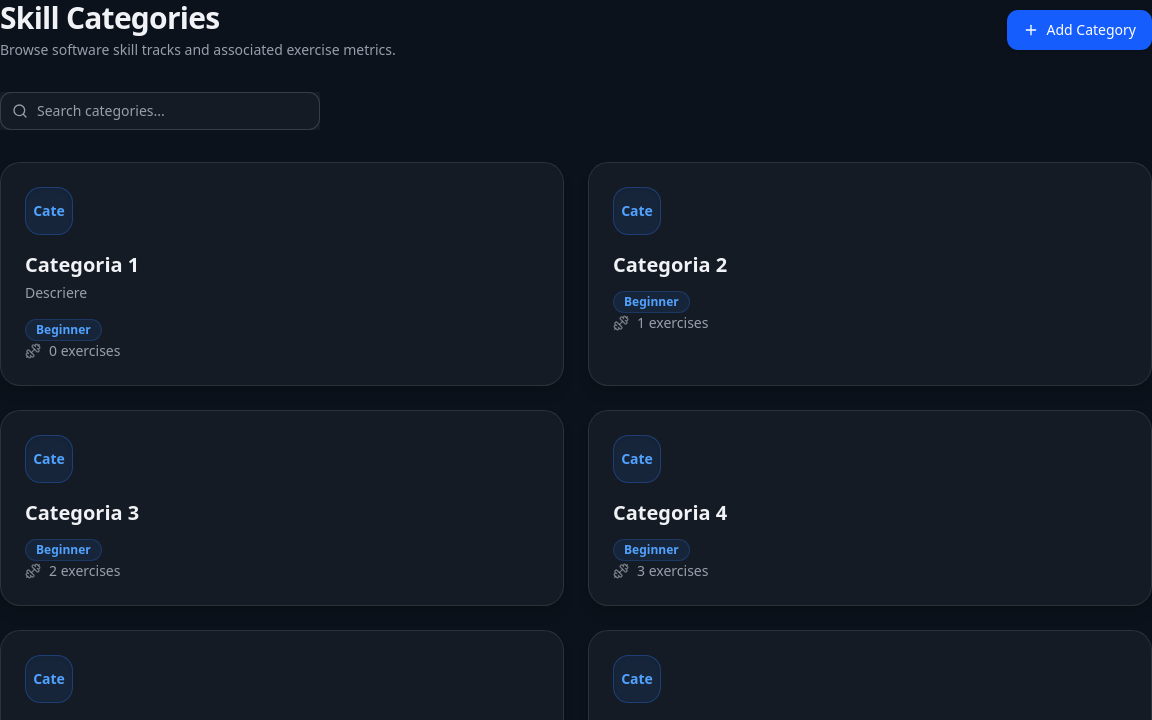
Test: CategoriesManager › creates a new category
Expected: the heading "Categoria 1" is shown, [25,251,139,278]
Step 1. Click the button "Add Category" → (1079, 30), box [1006,10,1151,50]
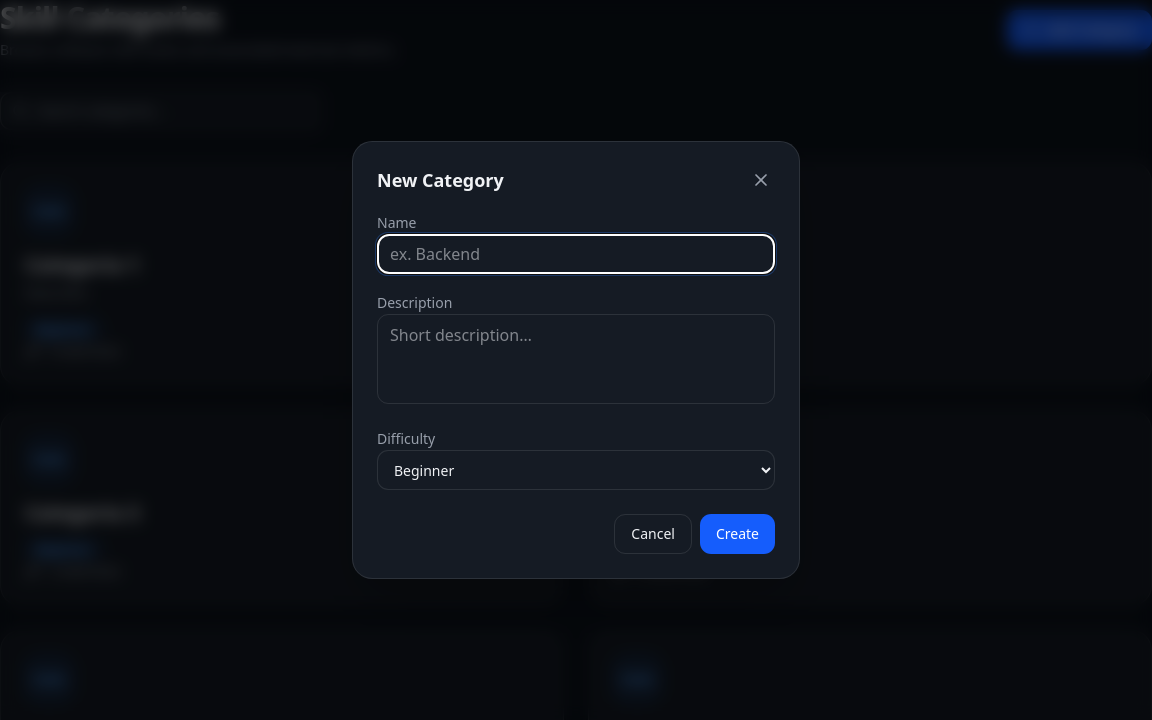
Result: the heading "New Category" is shown at [377,166,504,194]
Step 2. Type "DevOps" into the field with placeholder "ex. Backend" → (576, 254), box [377,234,775,274]
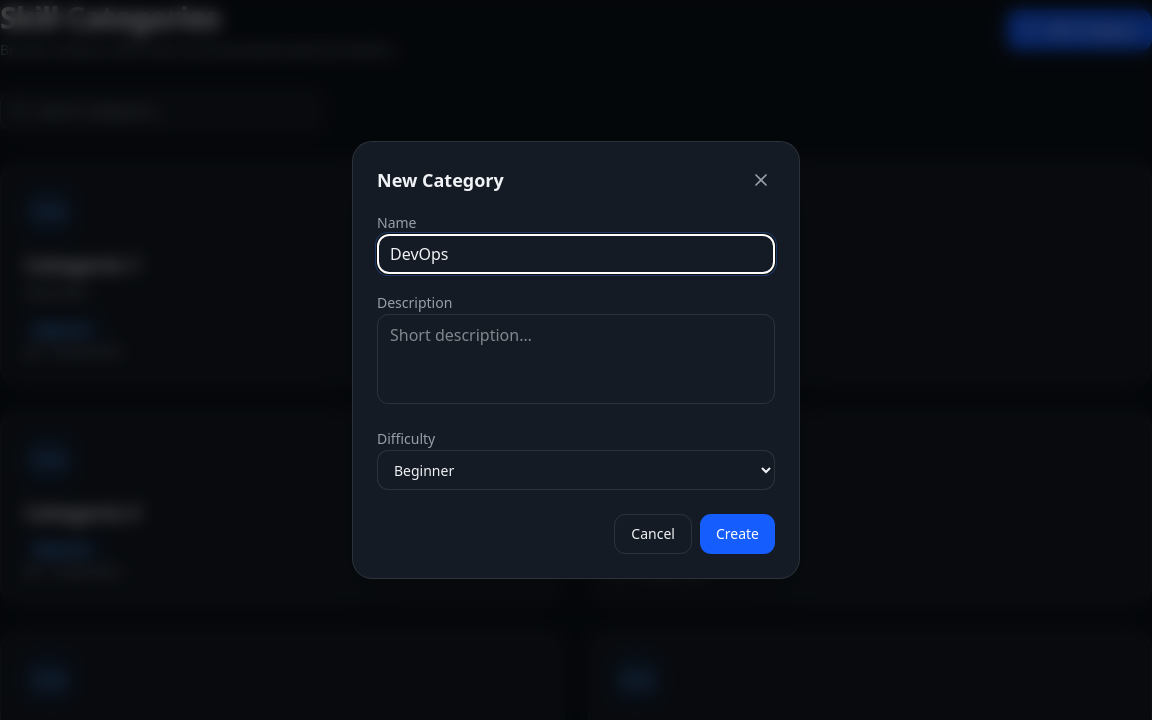
Step 3. Type "CI/CD" into the text box with placeholder "Short description…" → (576, 359), box [377,314,775,404]
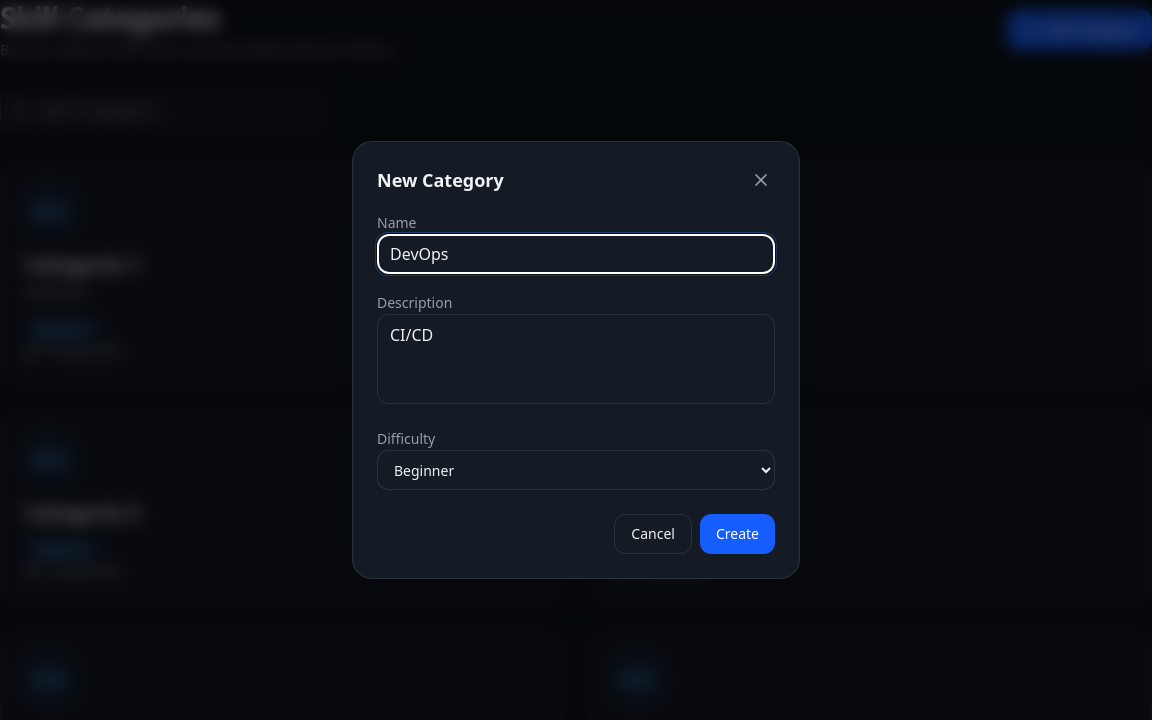
Step 4. Submit the form "Create", box [352,141,800,579]
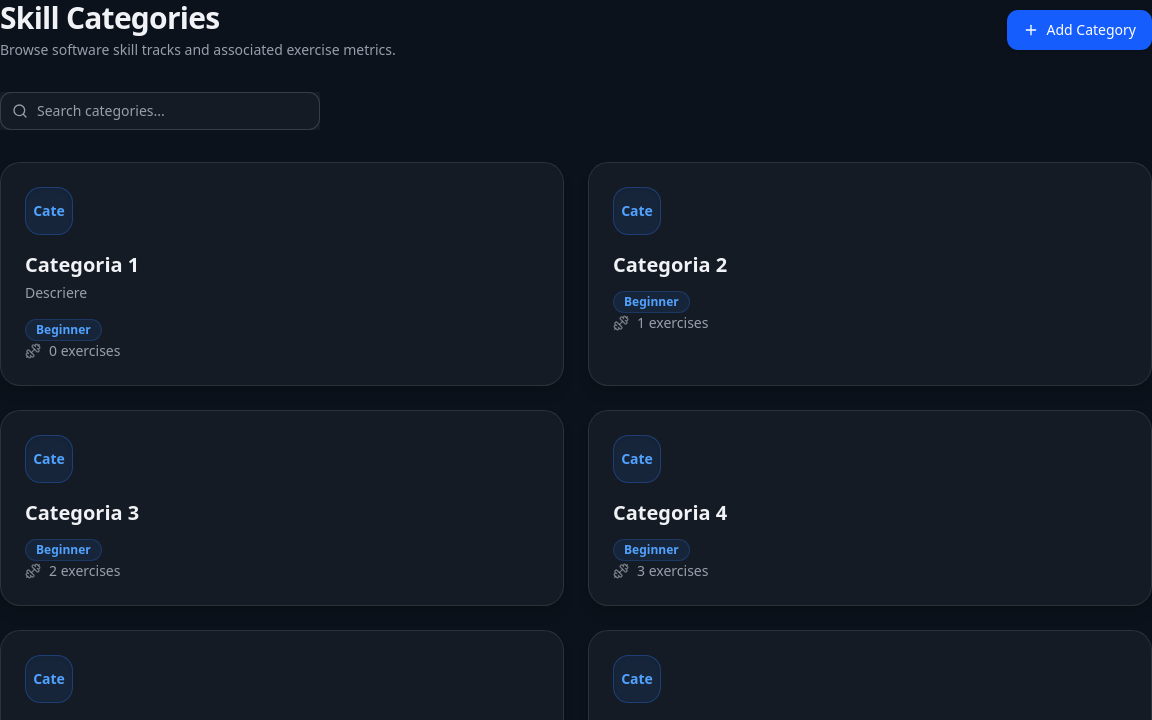
Result: the heading "New Category" is gone
